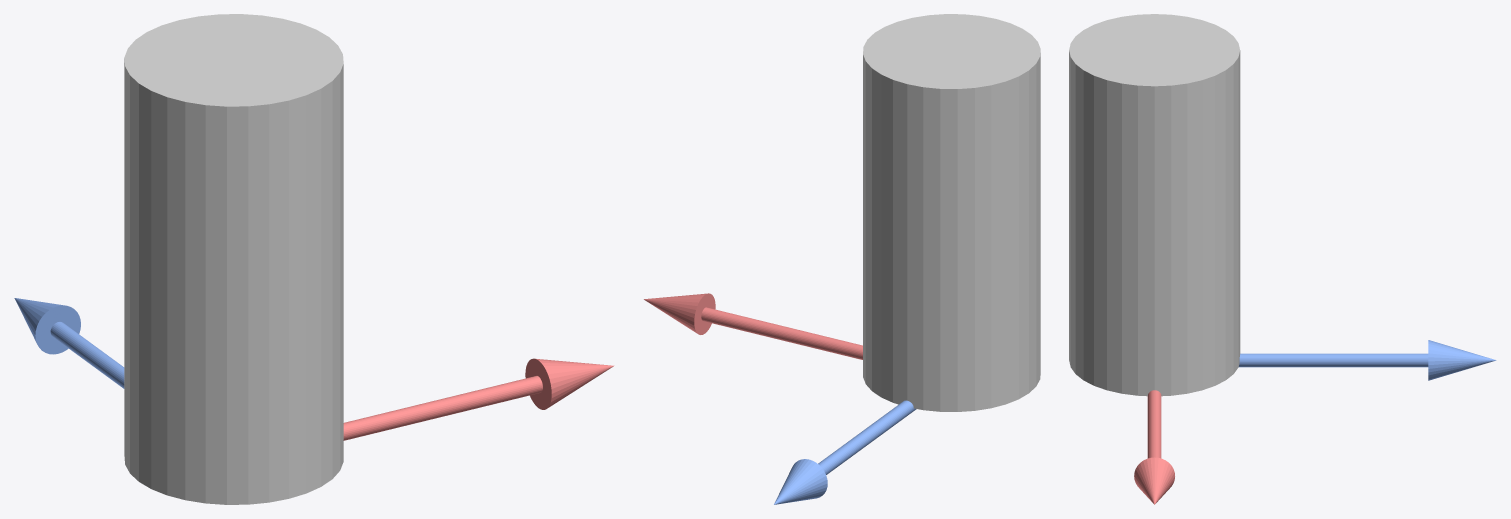
The picture shows the model from 3 angles, left to right: view 1: azimuth 30°, elevation 25°; view 2: azimuth 150°, elevation 25°; view 3: azimuth 270°, elevation 25°; orthographic projection. The views are drawn at different scales.
Visible parts, largest first — view 1: example.part, right, forward; view 2: example.part, right, forward; view 3: example.part, forward, right.
Part boxes in pixels (x1=…): example.part: x1=124, y1=14, x2=343, y2=504; right: x1=343, y1=358, x2=614, y2=440; forward: x1=14, y1=298, x2=124, y2=388; example.part: x1=863, y1=14, x2=1040, y2=411; right: x1=644, y1=293, x2=862, y2=359; forward: x1=774, y1=400, x2=916, y2=504; example.part: x1=1069, y1=14, x2=1240, y2=396; forward: x1=1238, y1=340, x2=1496, y2=380; right: x1=1134, y1=390, x2=1174, y2=504.
Size of the model in its own units: 1.25 by 1.06 by 1.25.
